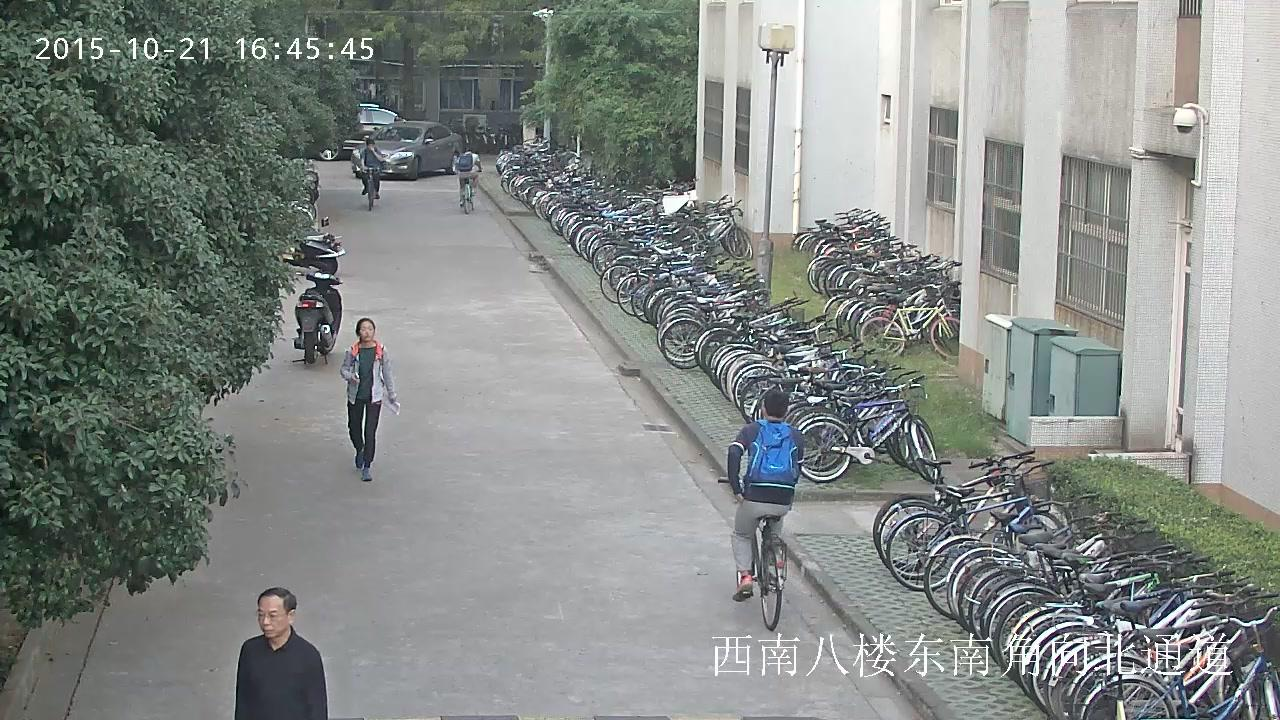face: (258, 594, 288, 638), (360, 321, 375, 341), (367, 143, 374, 148)
